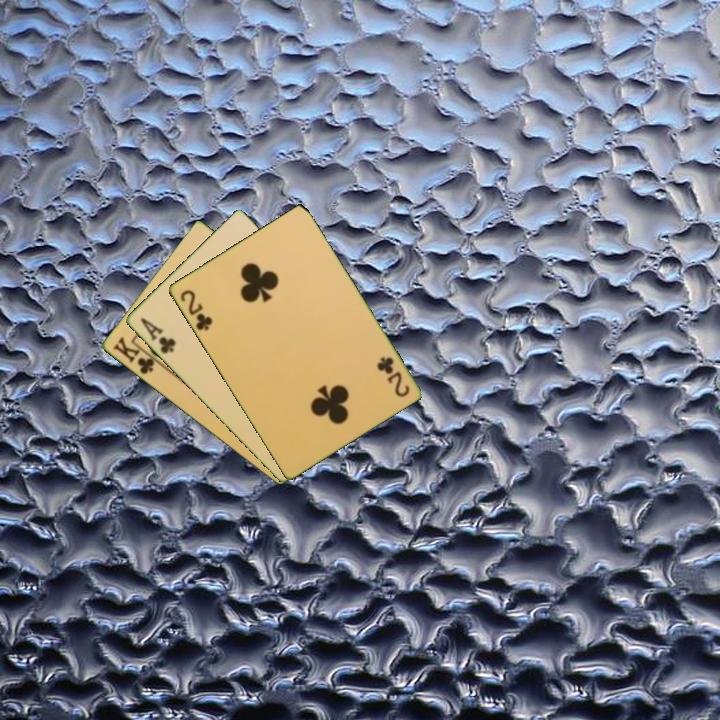2c: (176, 286, 215, 333), (373, 353, 412, 400)
Ac: (136, 314, 178, 357)
Kc: (109, 333, 163, 377)
